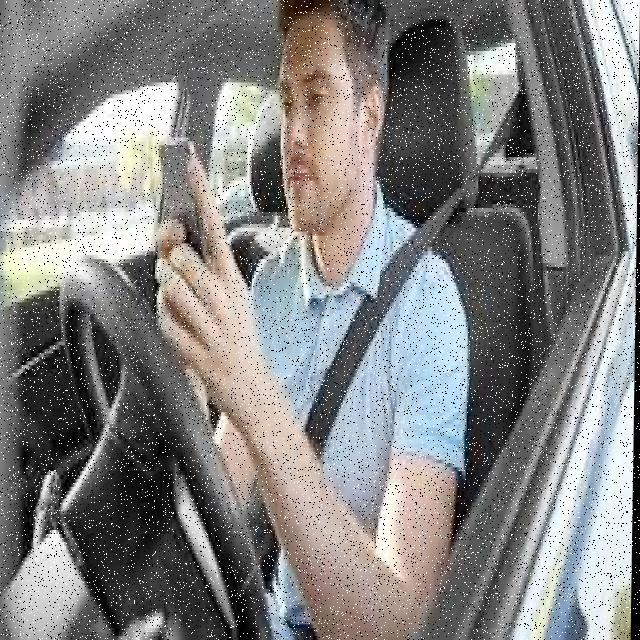seatbelt: (268, 194, 478, 508)
